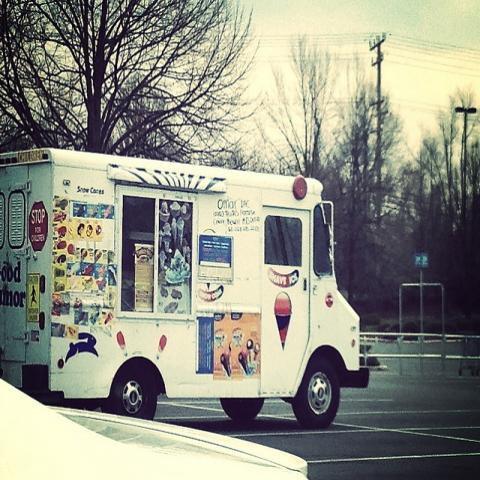car: (1, 377, 309, 472)
truck: (3, 150, 367, 426)
